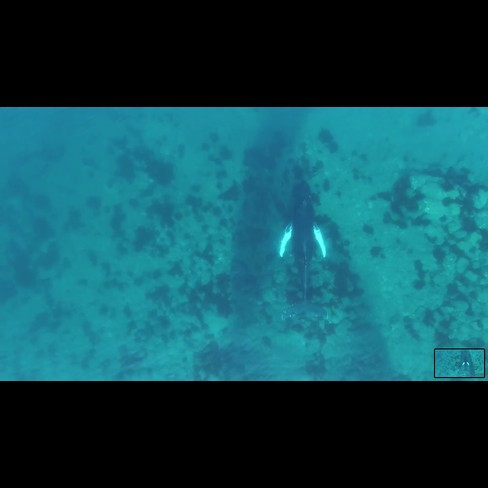hump: (272, 175, 330, 328)
